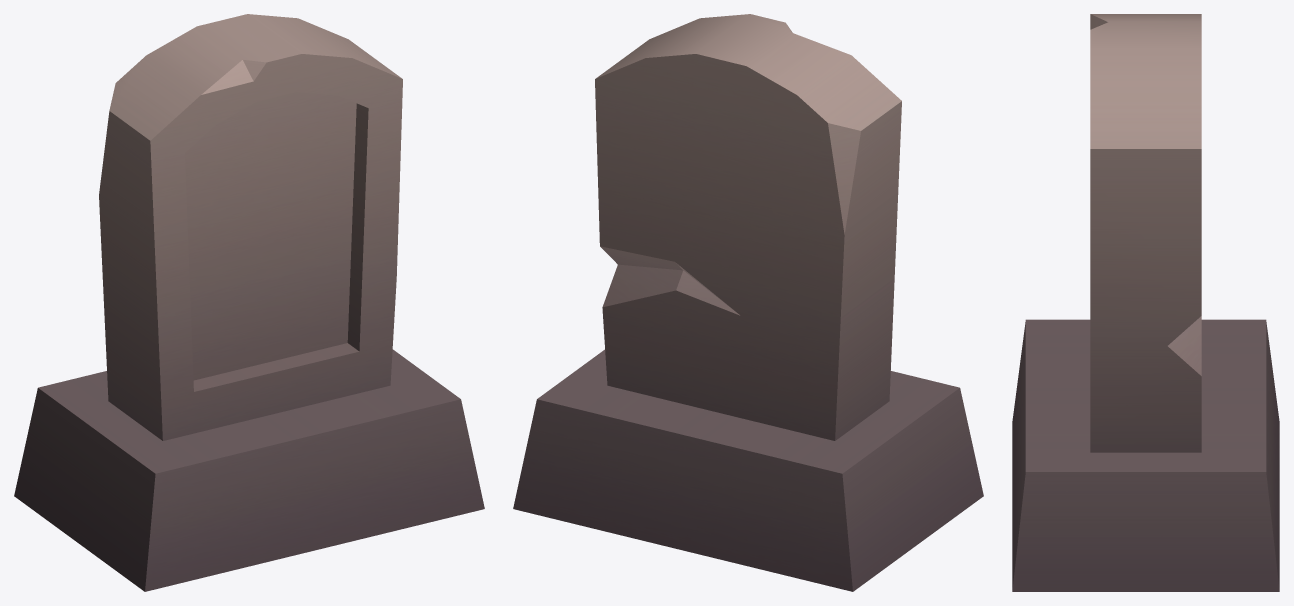
The model's file is tombstone2Weathered.glb.
The picture shows the model from 3 angles, left to right: view 1: azimuth 30°, elevation 25°; view 2: azimuth 150°, elevation 25°; view 3: azimuth 270°, elevation 25°; orthographic projection. The views are drawn at different scales.
Visible parts, largest first — view 1: tombstone2Weathered; view 2: tombstone2Weathered; view 3: tombstone2Weathered.
Boxes of the visible parts, x1=… form: tombstone2Weathered: x1=14, y1=14, x2=484, y2=591; tombstone2Weathered: x1=513, y1=14, x2=983, y2=591; tombstone2Weathered: x1=1012, y1=14, x2=1279, y2=591.
Size of the model in its own units: 0.6266 by 0.8145 by 0.4178.
Materials: 1 (1 with a texture image).
